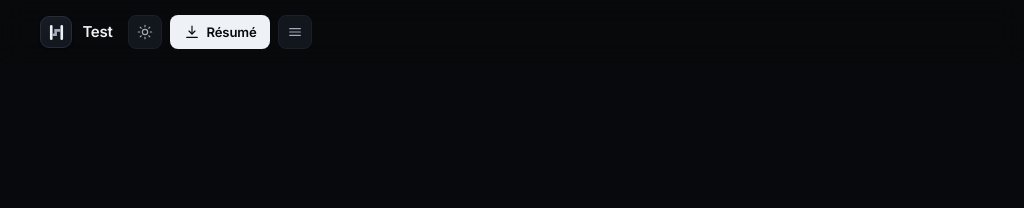
Scenario: SiteHeader › toggles the mobile menu open and closed
The image size is (1024, 208).
Click the button named "open navigation menu": [295, 32] box [278,15,312,49]
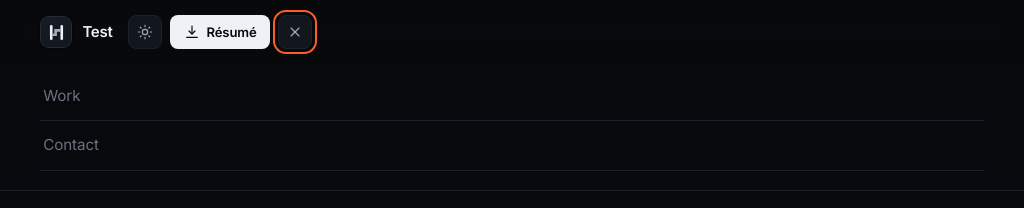
Expected: the button named "close navigation menu" is expanded
Click the button named "close navigation menu": [295, 32] box [278,15,312,49]
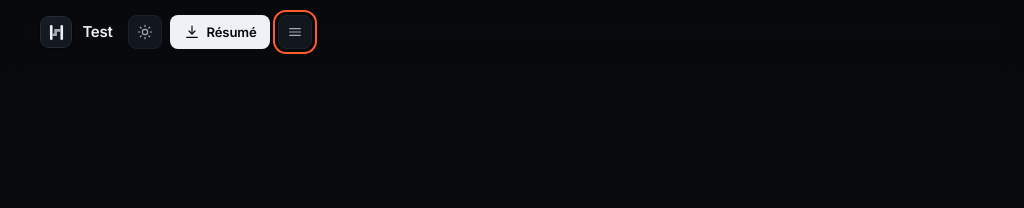
Expected: the button named "open navigation menu" is collapsed, [278,15,312,49]
